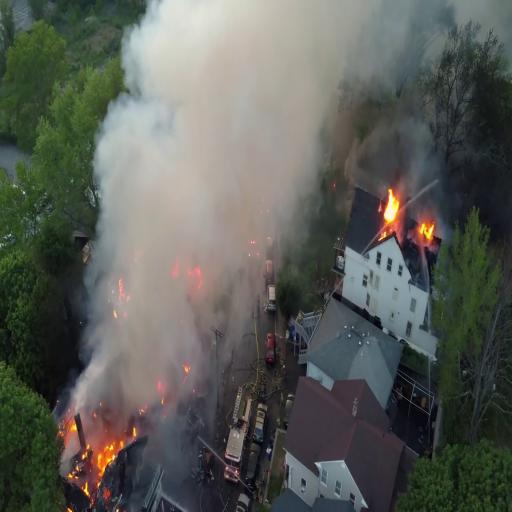fire: (380, 188, 401, 232), (418, 222, 434, 244)
smoke: (127, 4, 332, 242)
